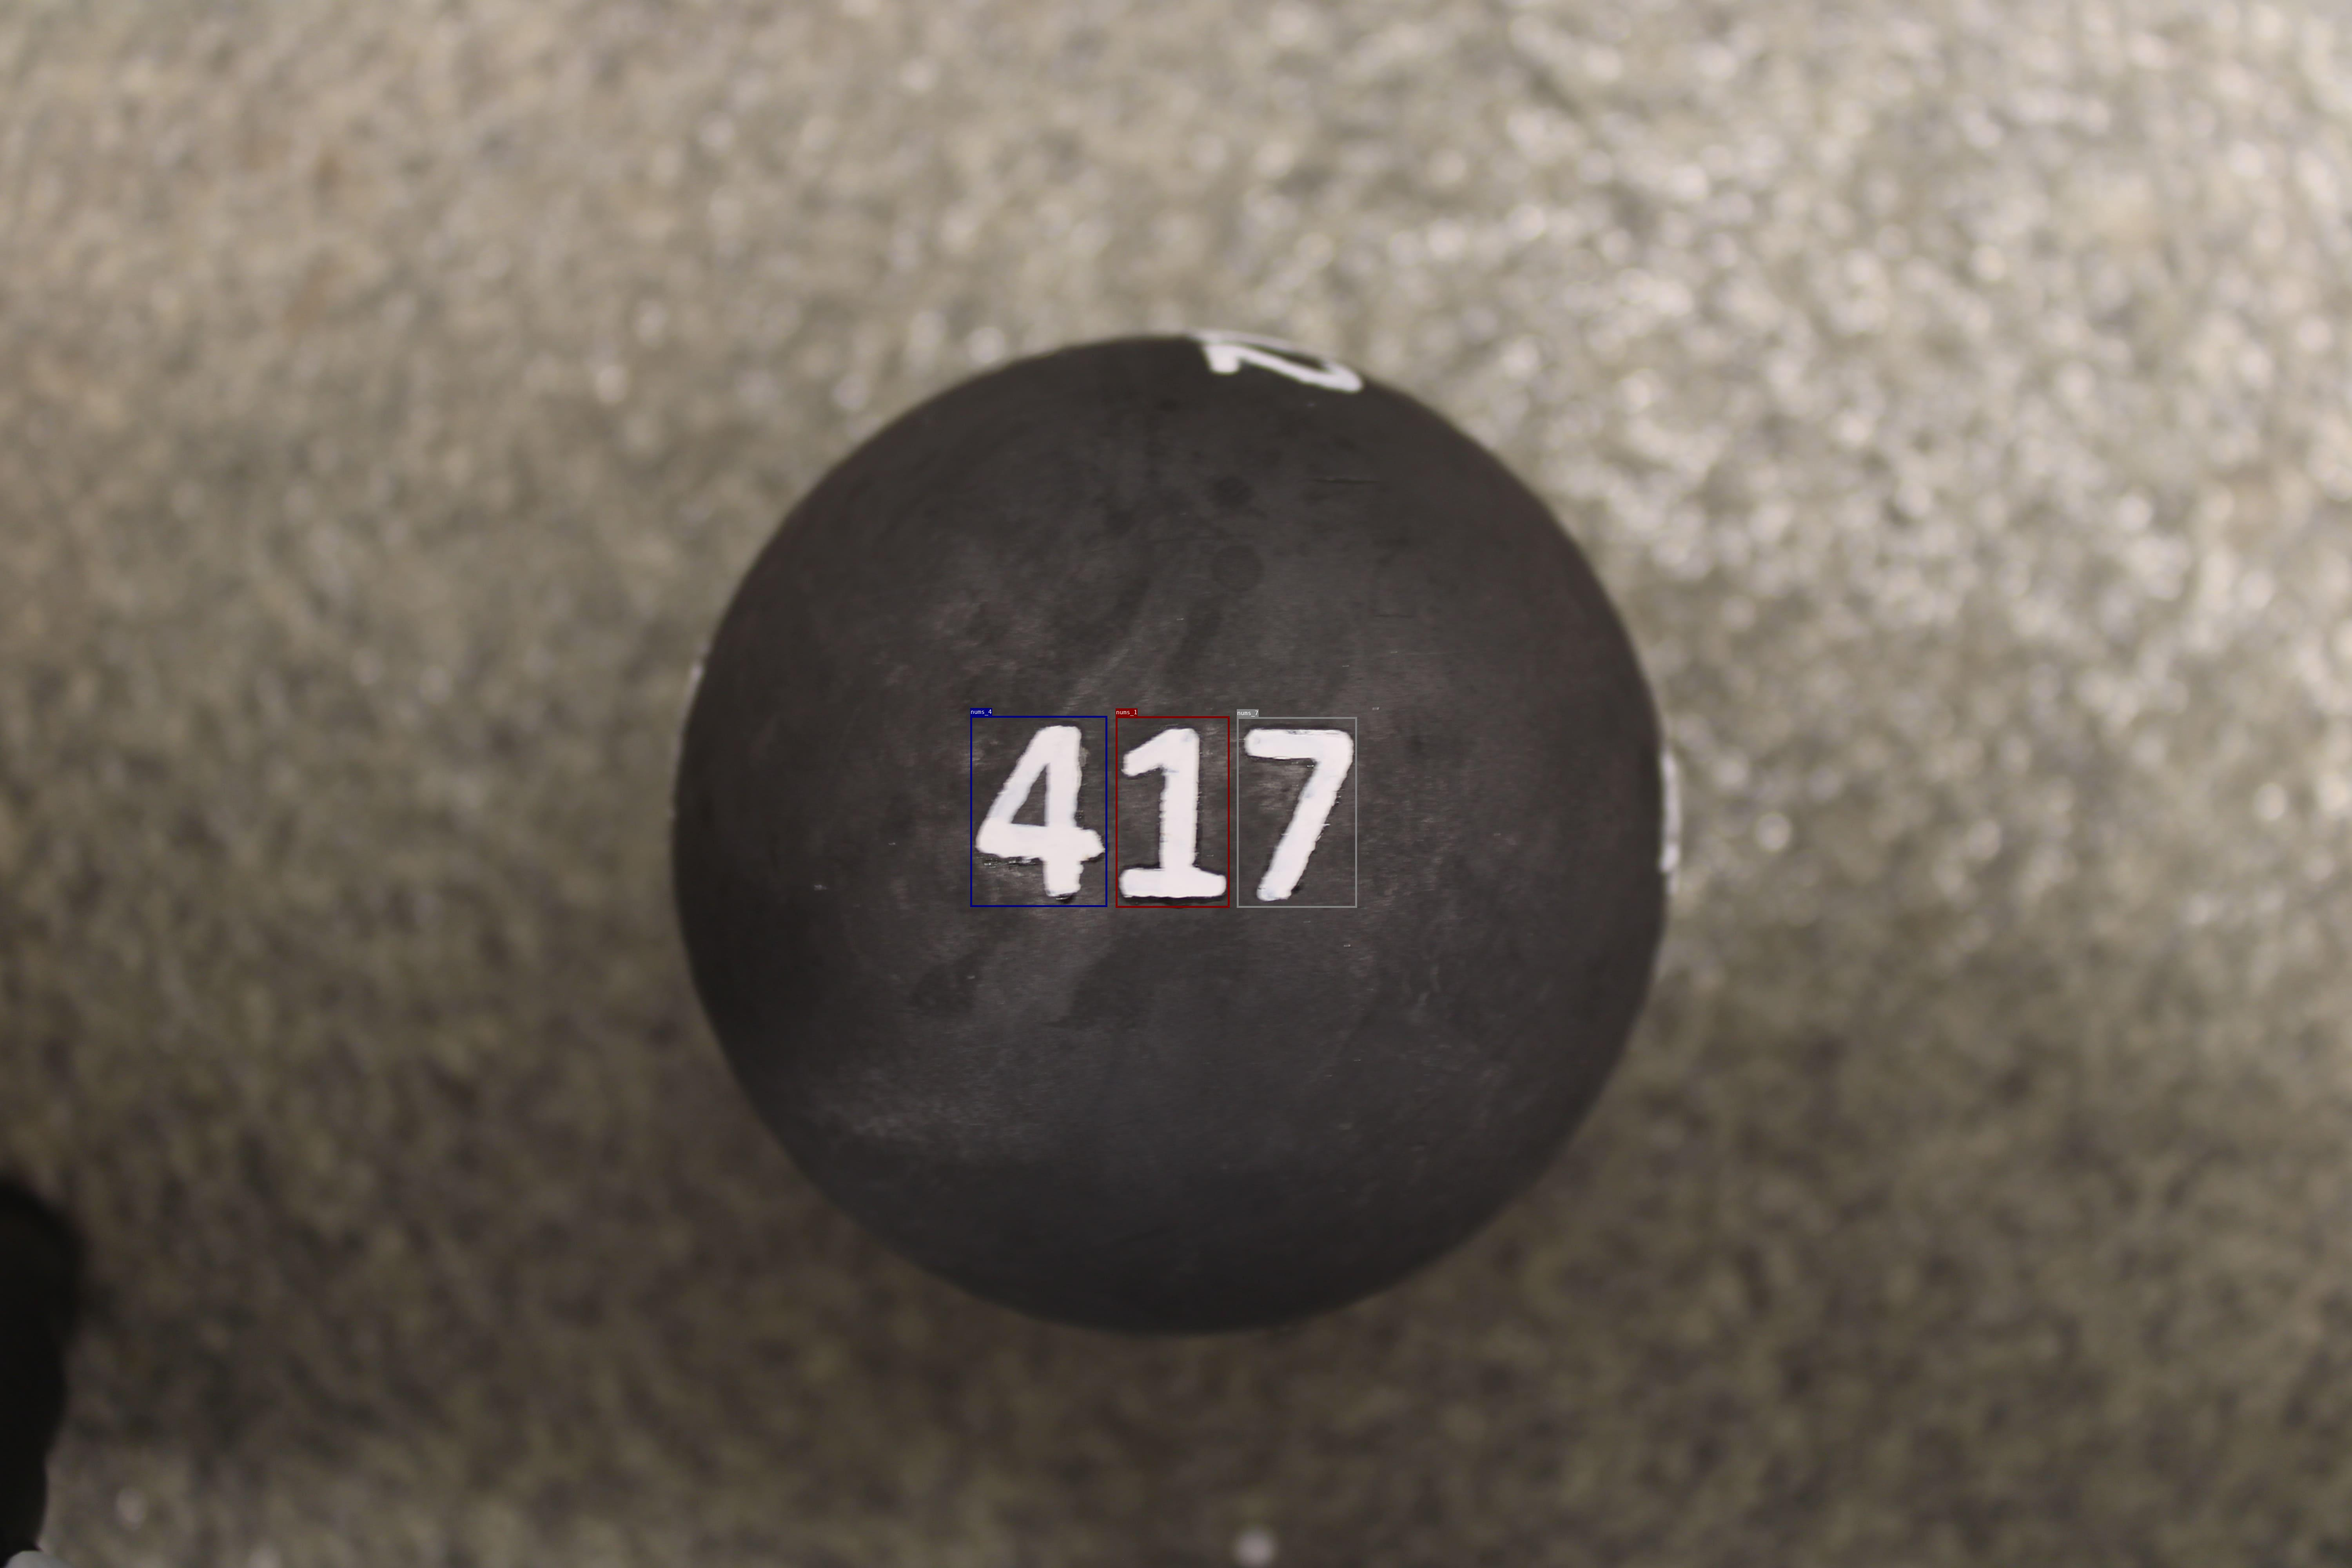nums_1: (1116, 716, 1228, 908)
nums_4: (970, 716, 1108, 906)
nums_7: (1237, 717, 1356, 908)
